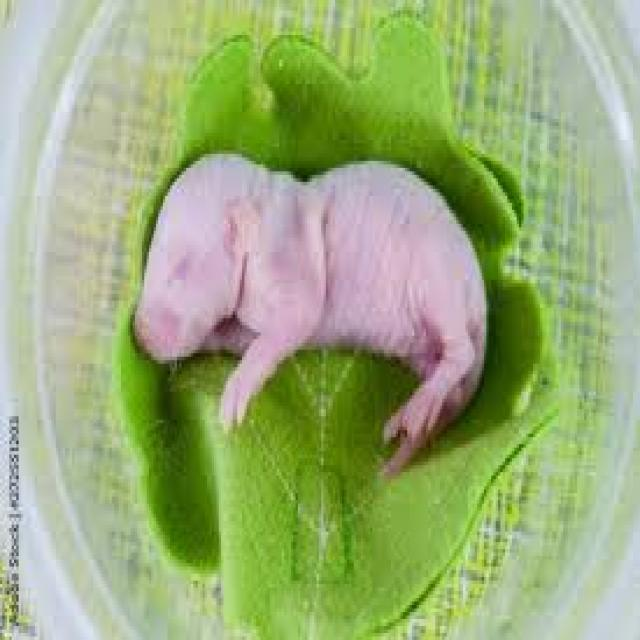Rat: (116, 166, 502, 440)
